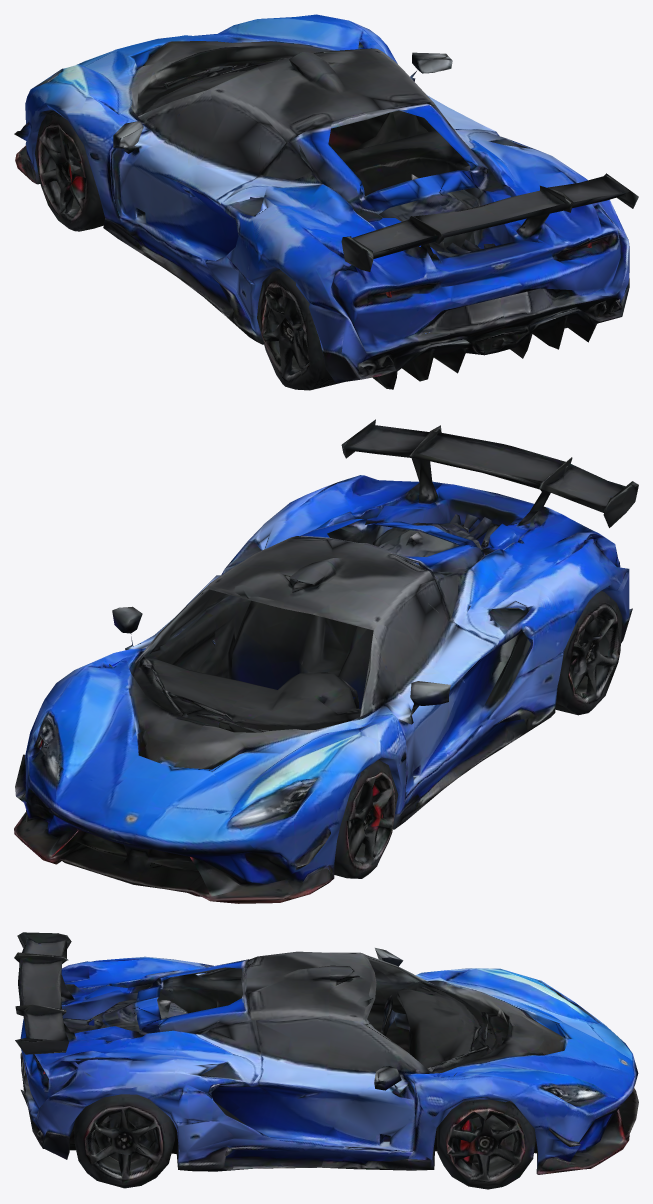
File: cobalt_loin.glb
The picture shows the model from 3 angles, top to bottom: view 1: azimuth 30°, elevation 25°; view 2: azimuth 150°, elevation 25°; view 3: azimuth 270°, elevation 25°; orthographic projection. The views are drawn at different scales.
Visible parts, largest first — view 1: body, wheel_rl, wheel_fl; view 2: body, wheel_rl, wheel_fl; view 3: body, wheel_rr, wheel_fr.
Part boxes in pixels (bbox=[...]): body: bbox=[14, 14, 638, 389]; wheel_rl: bbox=[257, 270, 343, 390]; wheel_fl: bbox=[32, 111, 104, 231]; body: bbox=[14, 419, 638, 903]; wheel_rl: bbox=[555, 592, 622, 715]; wheel_fl: bbox=[334, 759, 398, 878]; body: bbox=[14, 932, 638, 1174]; wheel_rr: bbox=[74, 1095, 175, 1188]; wheel_fr: bbox=[436, 1099, 535, 1189].
Size of the model in its own units: 2.25 by 1.29 by 4.49.
2 materials, 1 textured.
